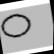no answer: (0, 6, 38, 45)
